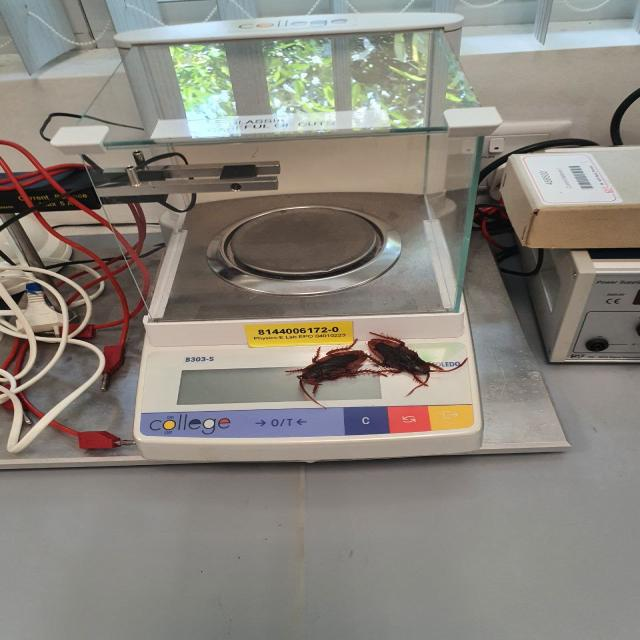Cockroach: (346, 326, 477, 402), (292, 331, 384, 409)
